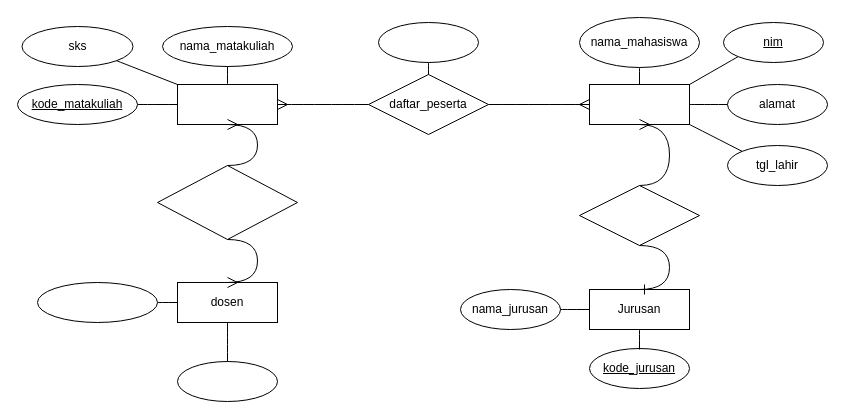
This 845x419 diagram has some shape labels left out. The shapes that lost their labels are listed below. From the top down, each one's box as (x1, y1, x2, y2) in pixels, then its label:
(378, 22, 478, 62): nilai
(176, 84, 278, 124): matakuliah
(588, 84, 690, 124): mahasiswa
(156, 164, 298, 240): daftar_pengampu
(36, 282, 158, 322): no_Induk_dosen
(176, 360, 278, 402): nama_dosen
